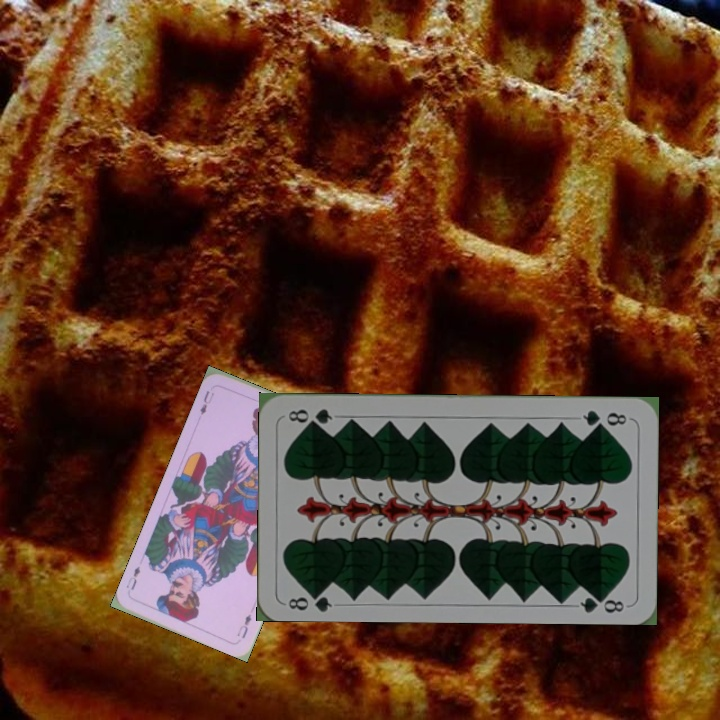EU: (233, 610, 254, 641), (196, 387, 217, 417)
G8: (284, 586, 335, 613), (578, 406, 629, 430)
